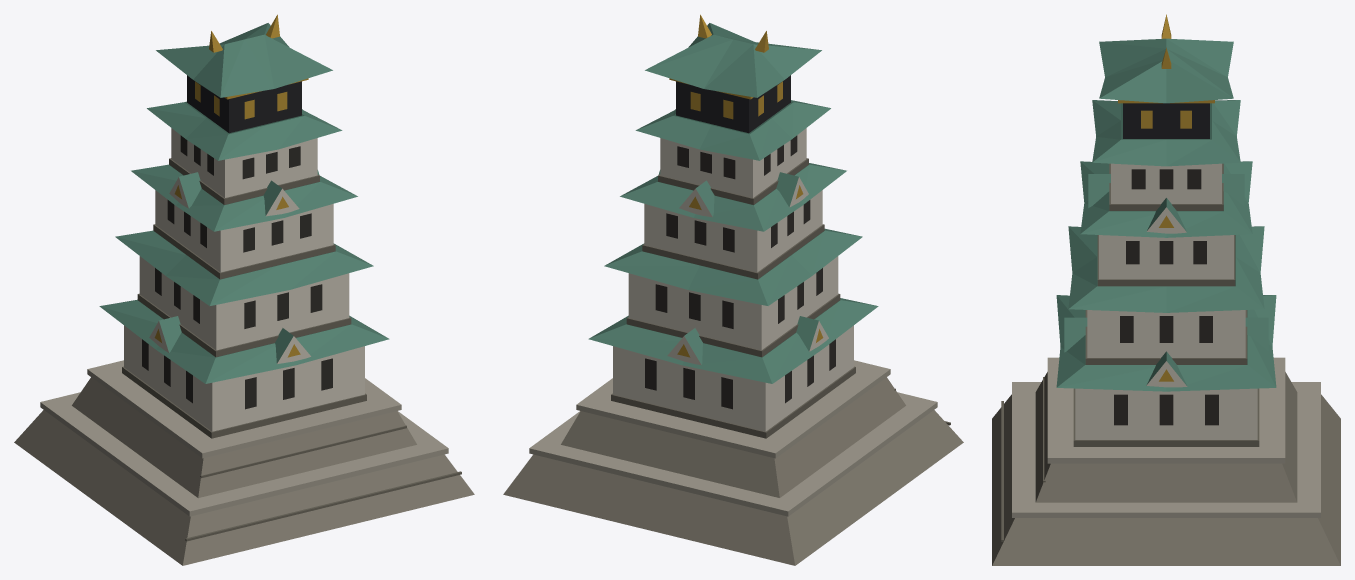
The model's file is chateau.glb.
3 renders of one model, left to right at view 1: azimuth 30°, elevation 25°; view 2: azimuth 150°, elevation 25°; view 3: azimuth 270°, elevation 25°, orthographic. The views are drawn at different scales.
Parts seen in each view (by area): view 1: chateau; view 2: chateau; view 3: chateau.
Boxes of the visible parts, <box> form: chateau: <box>14,14,474,565</box>; chateau: <box>503,14,963,565</box>; chateau: <box>992,14,1340,565</box>.
Size of the model in its own units: 1.76 by 2.57 by 1.76.
